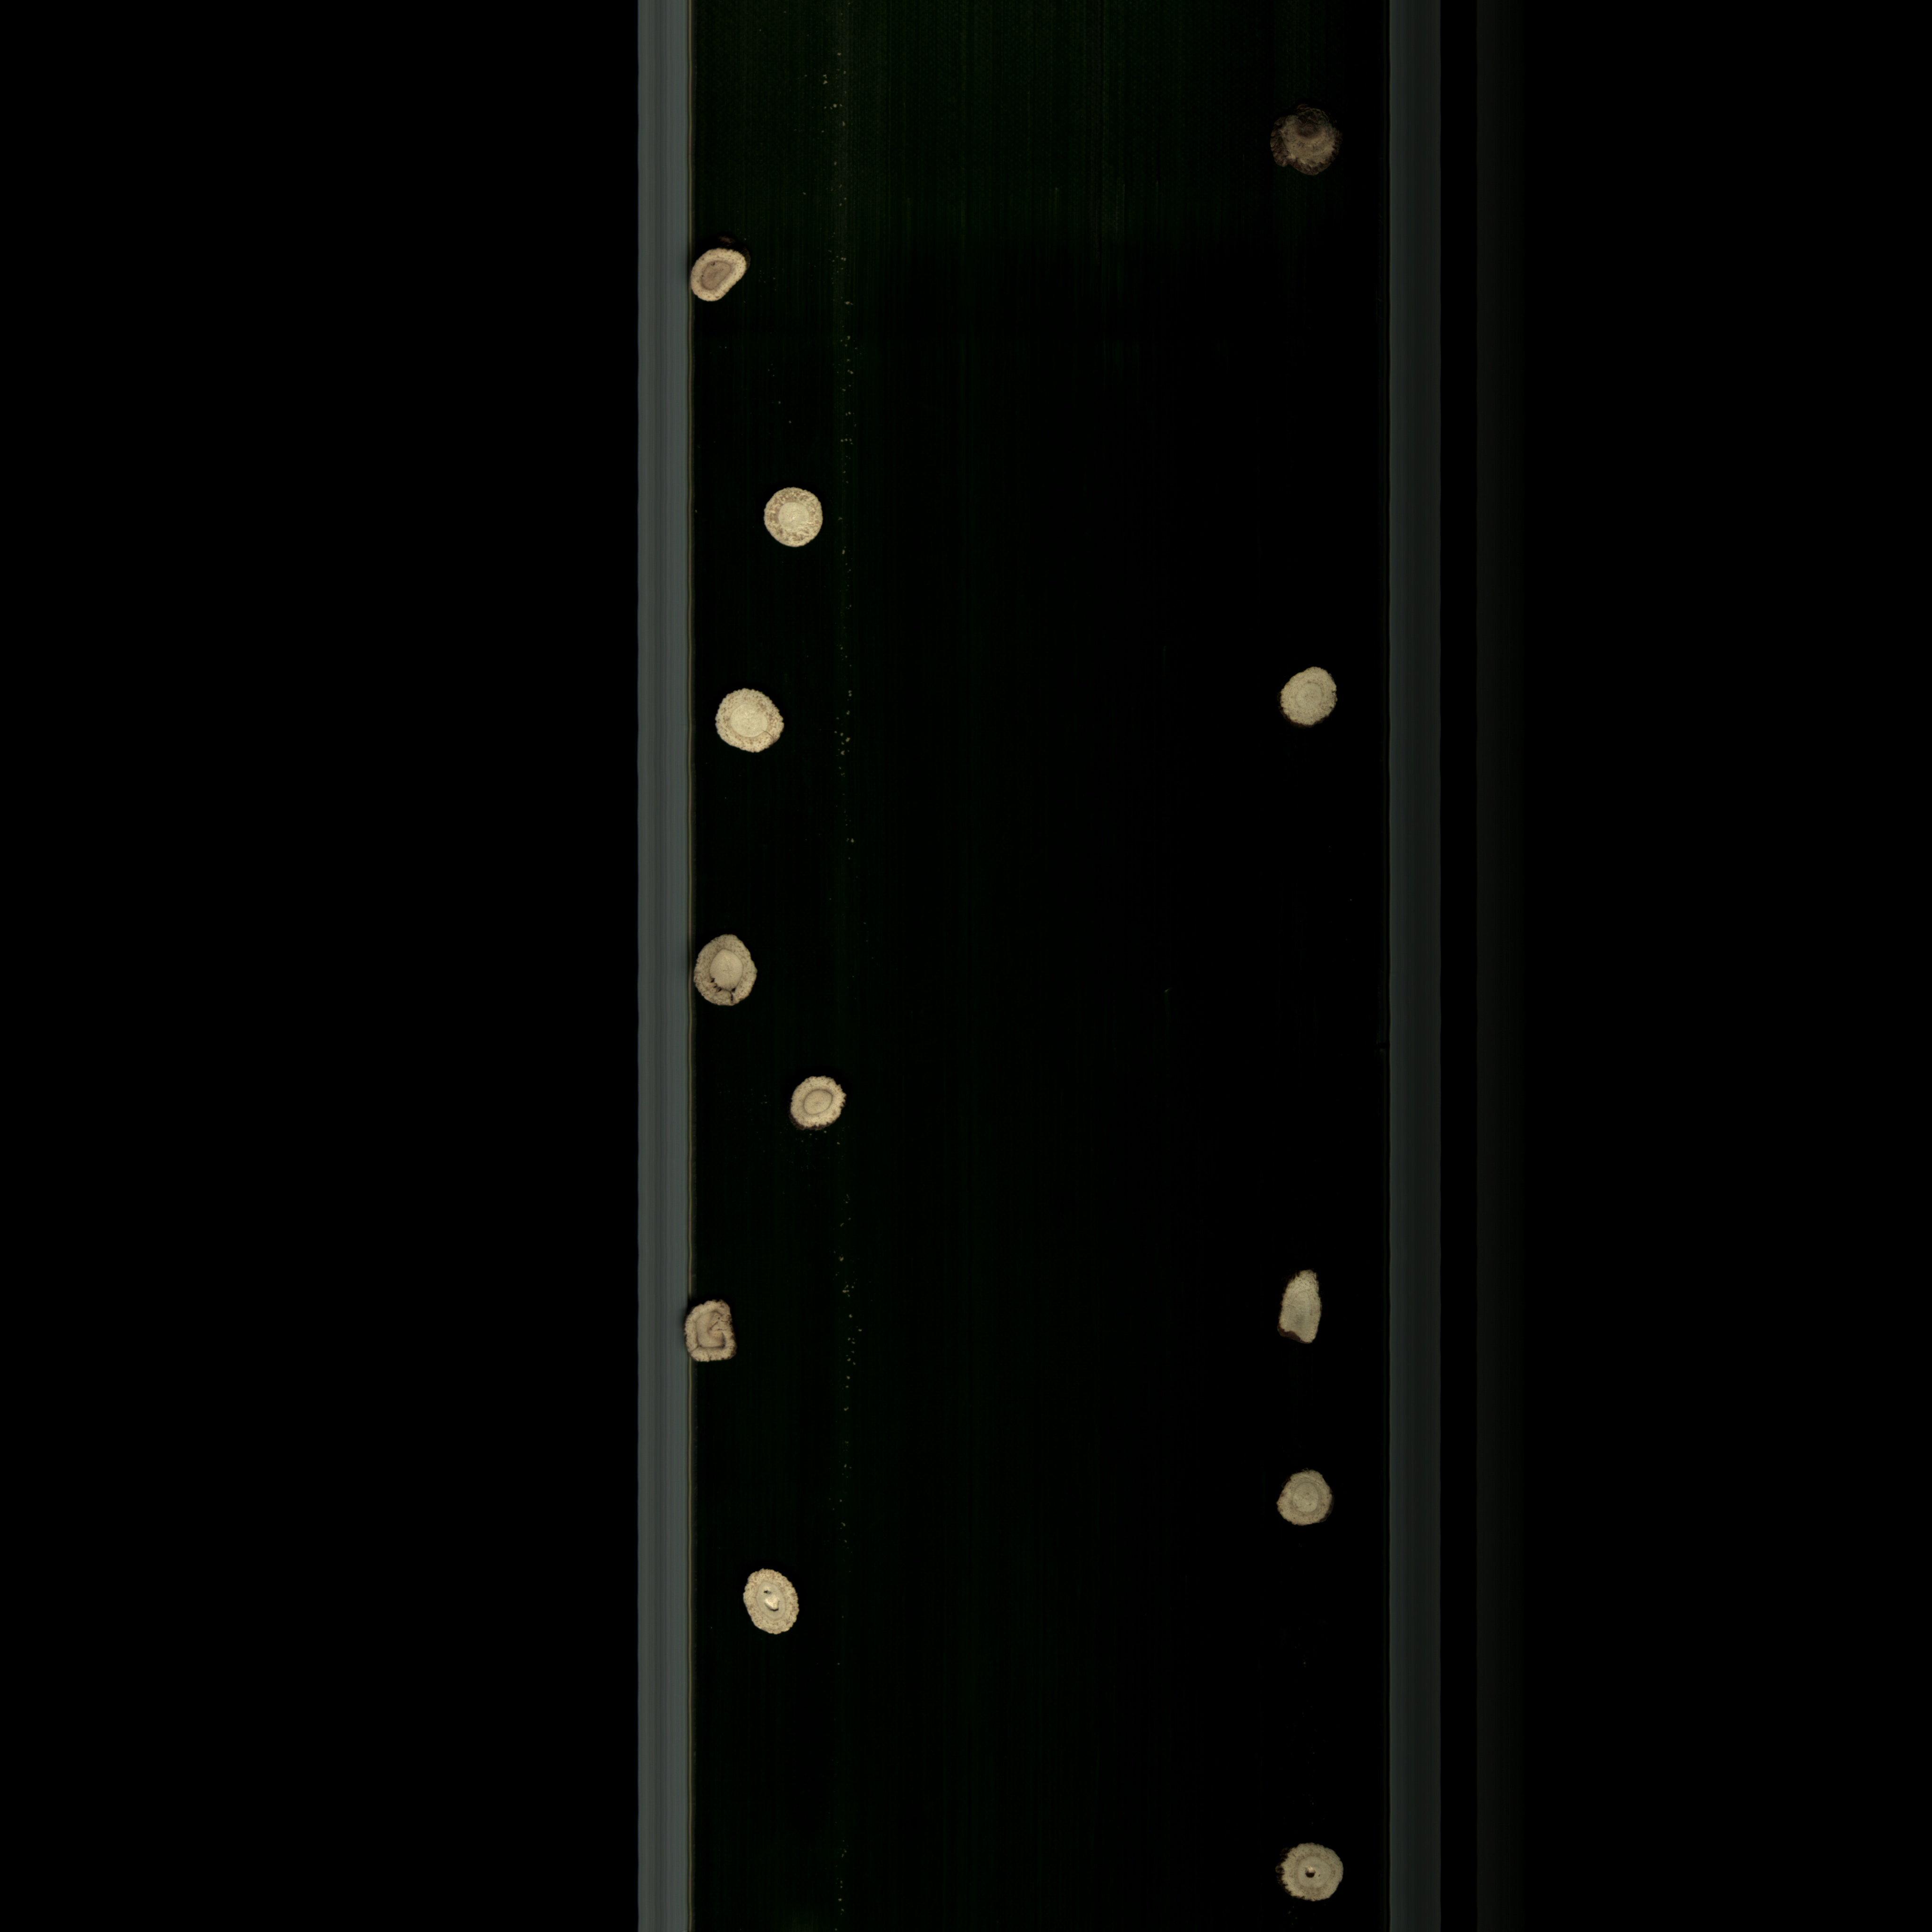bark: (1263, 104, 1345, 180)
distortion: (1276, 1263, 1330, 1357)
hole: (729, 1564, 810, 1645), (1270, 1840, 1350, 1907)
moldy: (688, 929, 764, 1024), (672, 1295, 748, 1376), (1265, 1461, 1334, 1534), (754, 487, 828, 554), (683, 244, 755, 308), (777, 1069, 846, 1134)
